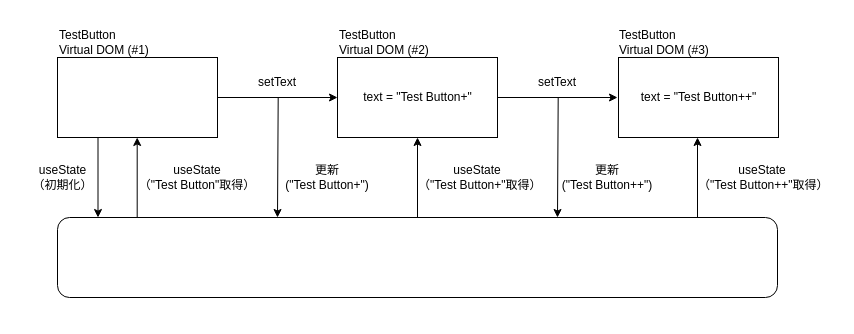
Image size: 854x334. Some labels were removed from this diagram. Here are the shapes that lost their labels. From the top down, the box of each, then its label:
(56, 56, 218, 138): text = "Test Button"
(56, 216, 778, 298): State（React内部で保持）
